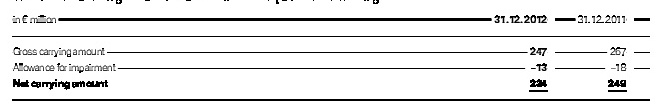table: (0, 0, 666, 111)
